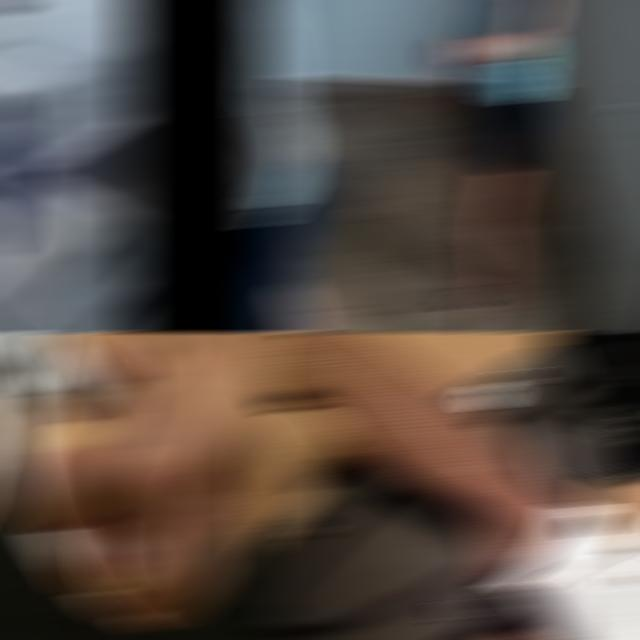Knife: (253, 332, 640, 640), (0, 332, 118, 419)
